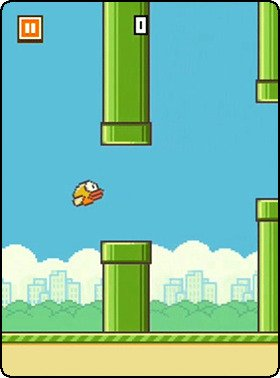flappybird: (71, 178, 107, 209)
green-pipe-down: (99, 239, 155, 333), (256, 197, 280, 329)
green-pipe-up: (100, 3, 155, 148), (254, 1, 280, 107)
